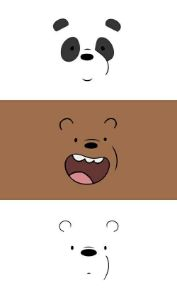bear: (47, 11, 127, 88), (55, 111, 132, 188), (53, 216, 128, 290)
